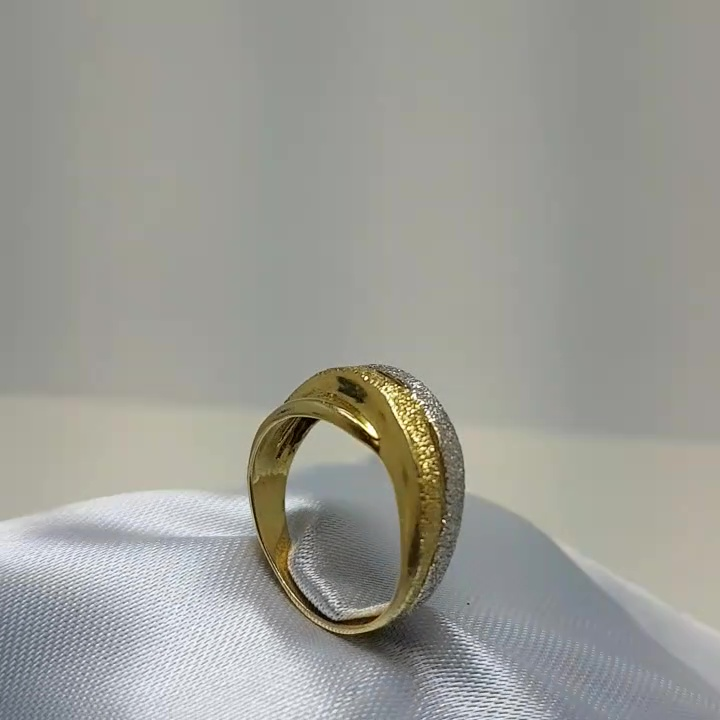Ring 5: (219, 359, 485, 644)
